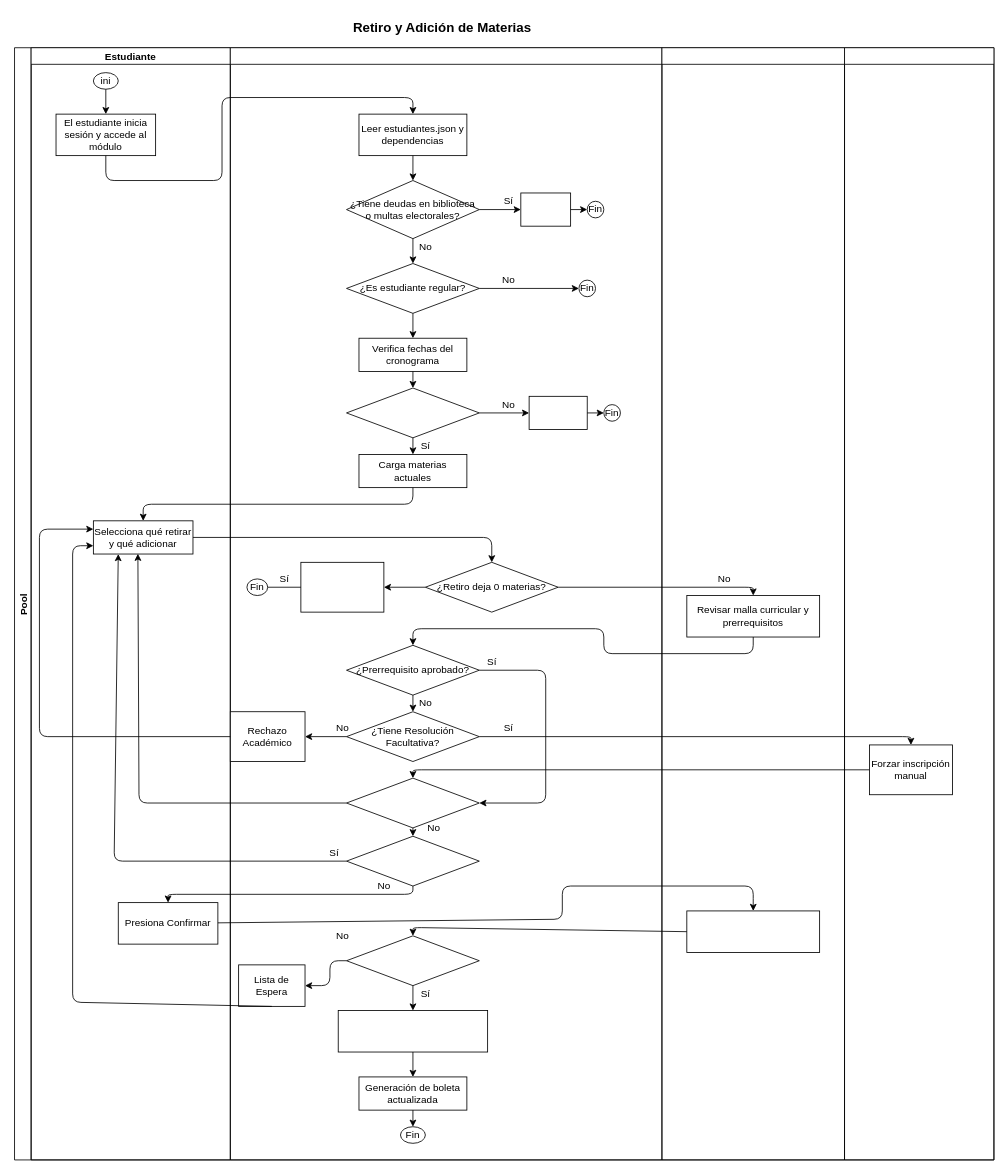
Some shapes in this 1008 by 1174 pixel diagram are drawn without their labels. Each missing label, with the box of its shape:
Alerta: Suspensión Voluntaria: (300, 561, 384, 612)
Bloqueo: (520, 192, 571, 226)
Director de Carrera: (844, 47, 994, 1160)
Fuera de fecha: (528, 395, 587, 430)
Kárdex: (661, 47, 845, 1160)
Revisar cupos en materias.json: (686, 910, 820, 952)
Sistema (Motor JSON): (229, 47, 662, 1160)
Transacción Segura: Bloquea JSON, descuenta cupo, inscribe, libera: (337, 1010, 488, 1052)
¿Existe choque de horarios?: (346, 835, 479, 886)
¿Quedan cupos?: (346, 935, 479, 986)
¿Sistema está abierto?: (346, 387, 479, 438)
¿Supera límite de créditos/materias?: (346, 777, 479, 828)
